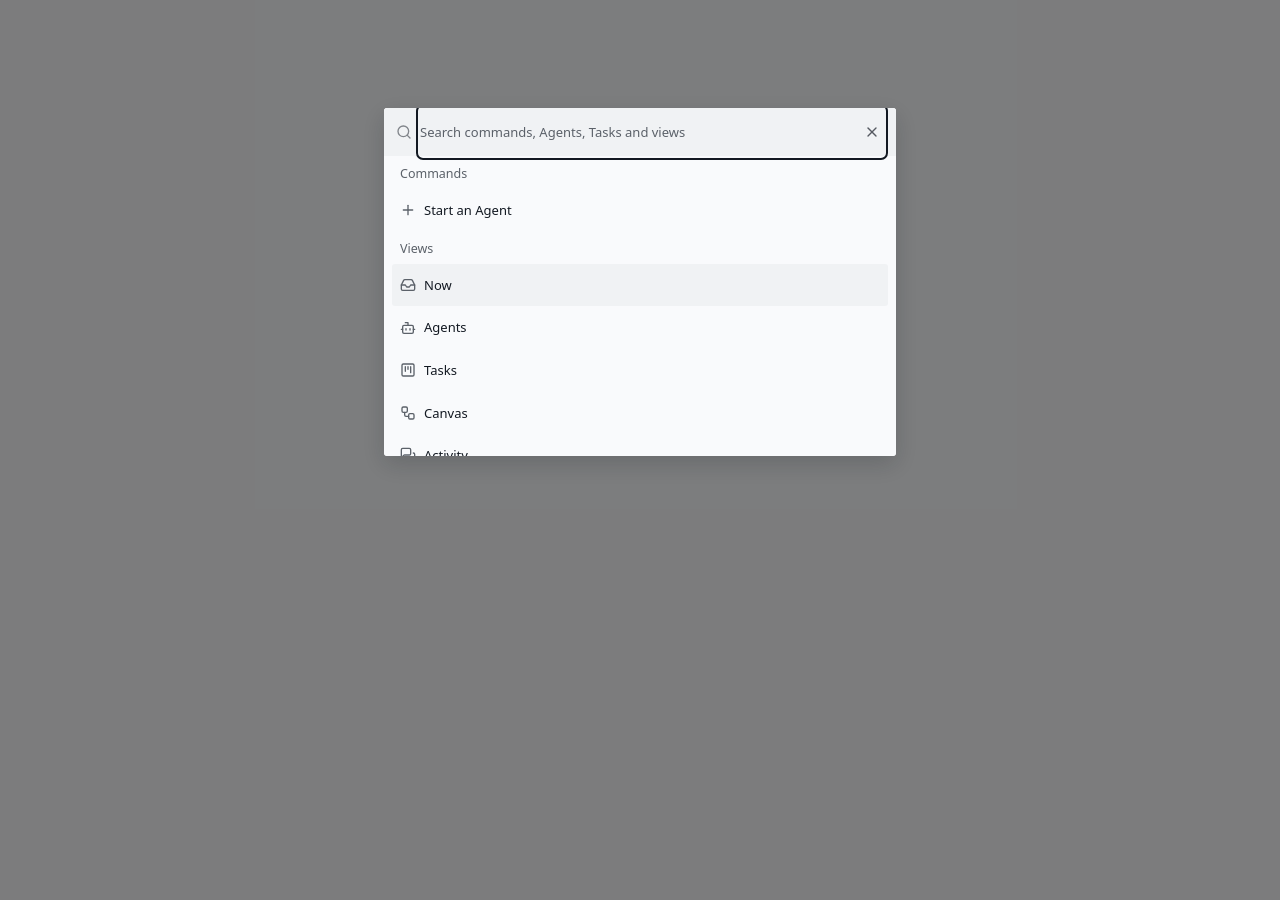
Test: starting an Agent › opens from the palette's Start an Agent command
Click the option "Start an Agent": x=456, y=210 [400,201,512,219]
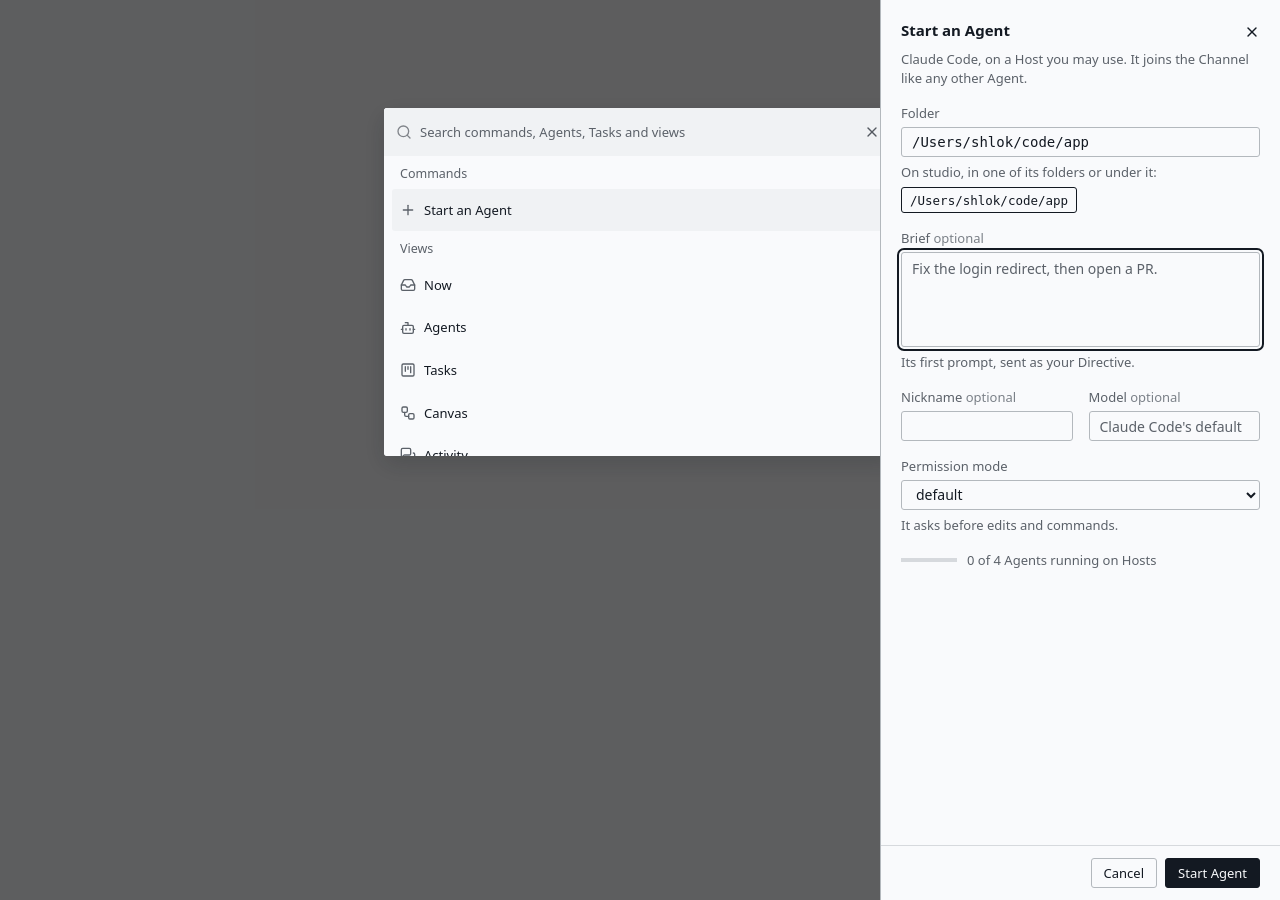
Expected: the dialog "Start an Agent" is shown, [880,0,1279,899]
